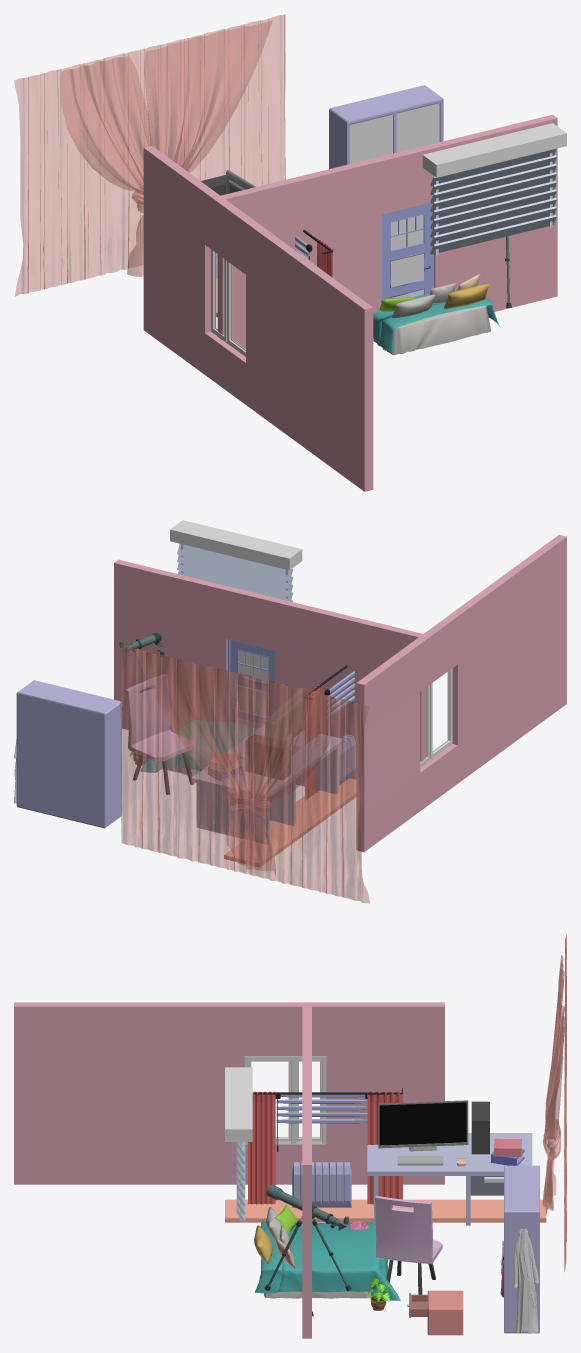
File: Room.fbx
3 renders of one model, top to bottom at view 1: azimuth 30°, elevation 25°; view 2: azimuth 150°, elevation 25°; view 3: azimuth 270°, elevation 25°, orthographic. The views are drawn at different scales.
Visible parts, largest first — view 1: Curtain04, Window, WallDoor, Curtain03, Closet, Bed, Door, Wall, CPU; view 2: Curtain04, Window, WallDoor, Closet, Handle, Curtain03, Chair, Door, Wood_Plank6, CPU, Bed, Curtain (+5 smaller); view 3: Window, Bed, CPU, Handle, Curtain, Closet, Chair, Wood_Plank6, Curtain04, WallDoor, Curtain03, Radiator (+6 smaller).
Part boxes in pixels (x1,y1,x2,y2): Curtain04: (14, 14, 285, 296); Window: (143, 146, 373, 491); WallDoor: (217, 114, 557, 349); Curtain03: (422, 123, 566, 254); Closet: (329, 85, 443, 168); Bed: (373, 273, 499, 355); Door: (381, 202, 434, 299); Wall: (211, 249, 245, 356); CPU: (201, 170, 255, 195); Curtain04: (120, 645, 370, 903); Window: (356, 534, 566, 852); WallDoor: (114, 559, 425, 779); Closet: (16, 680, 121, 828); Handle: (191, 725, 343, 844); Curtain03: (170, 520, 302, 601); Chair: (125, 674, 194, 794); Door: (227, 640, 275, 728); Wood_Plank6: (224, 778, 356, 867); CPU: (235, 688, 302, 779); Bed: (140, 720, 256, 776); Curtain: (304, 665, 347, 800); Window: (14, 1002, 444, 1184); Bed: (254, 1204, 400, 1300); CPU: (378, 1100, 489, 1166); Handle: (367, 1133, 532, 1225); Curtain: (248, 1088, 402, 1204); Closet: (502, 1165, 539, 1333); Chair: (375, 1195, 442, 1294); Wood_Plank6: (225, 1199, 546, 1222); Curtain04: (542, 934, 566, 1271); WallDoor: (302, 1006, 311, 1338); Curtain03: (225, 1067, 252, 1222); Radiator: (292, 1162, 351, 1207).
Size of the model in its own units: 502 by 260 by 602.
